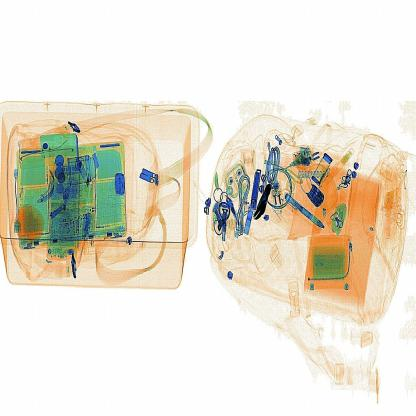knife: (252, 171, 280, 231)
